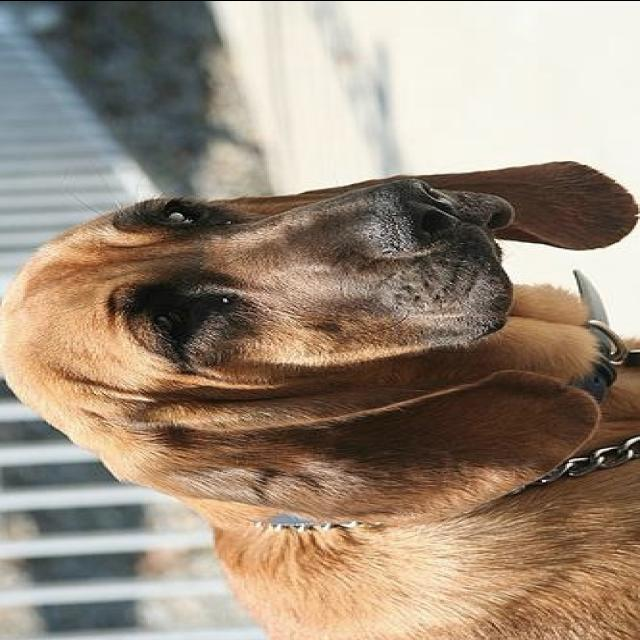bloodhound: (0, 160, 636, 640)
